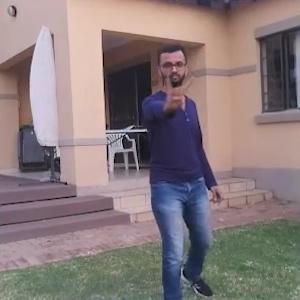takeoff-hand: (154, 69, 197, 118)
